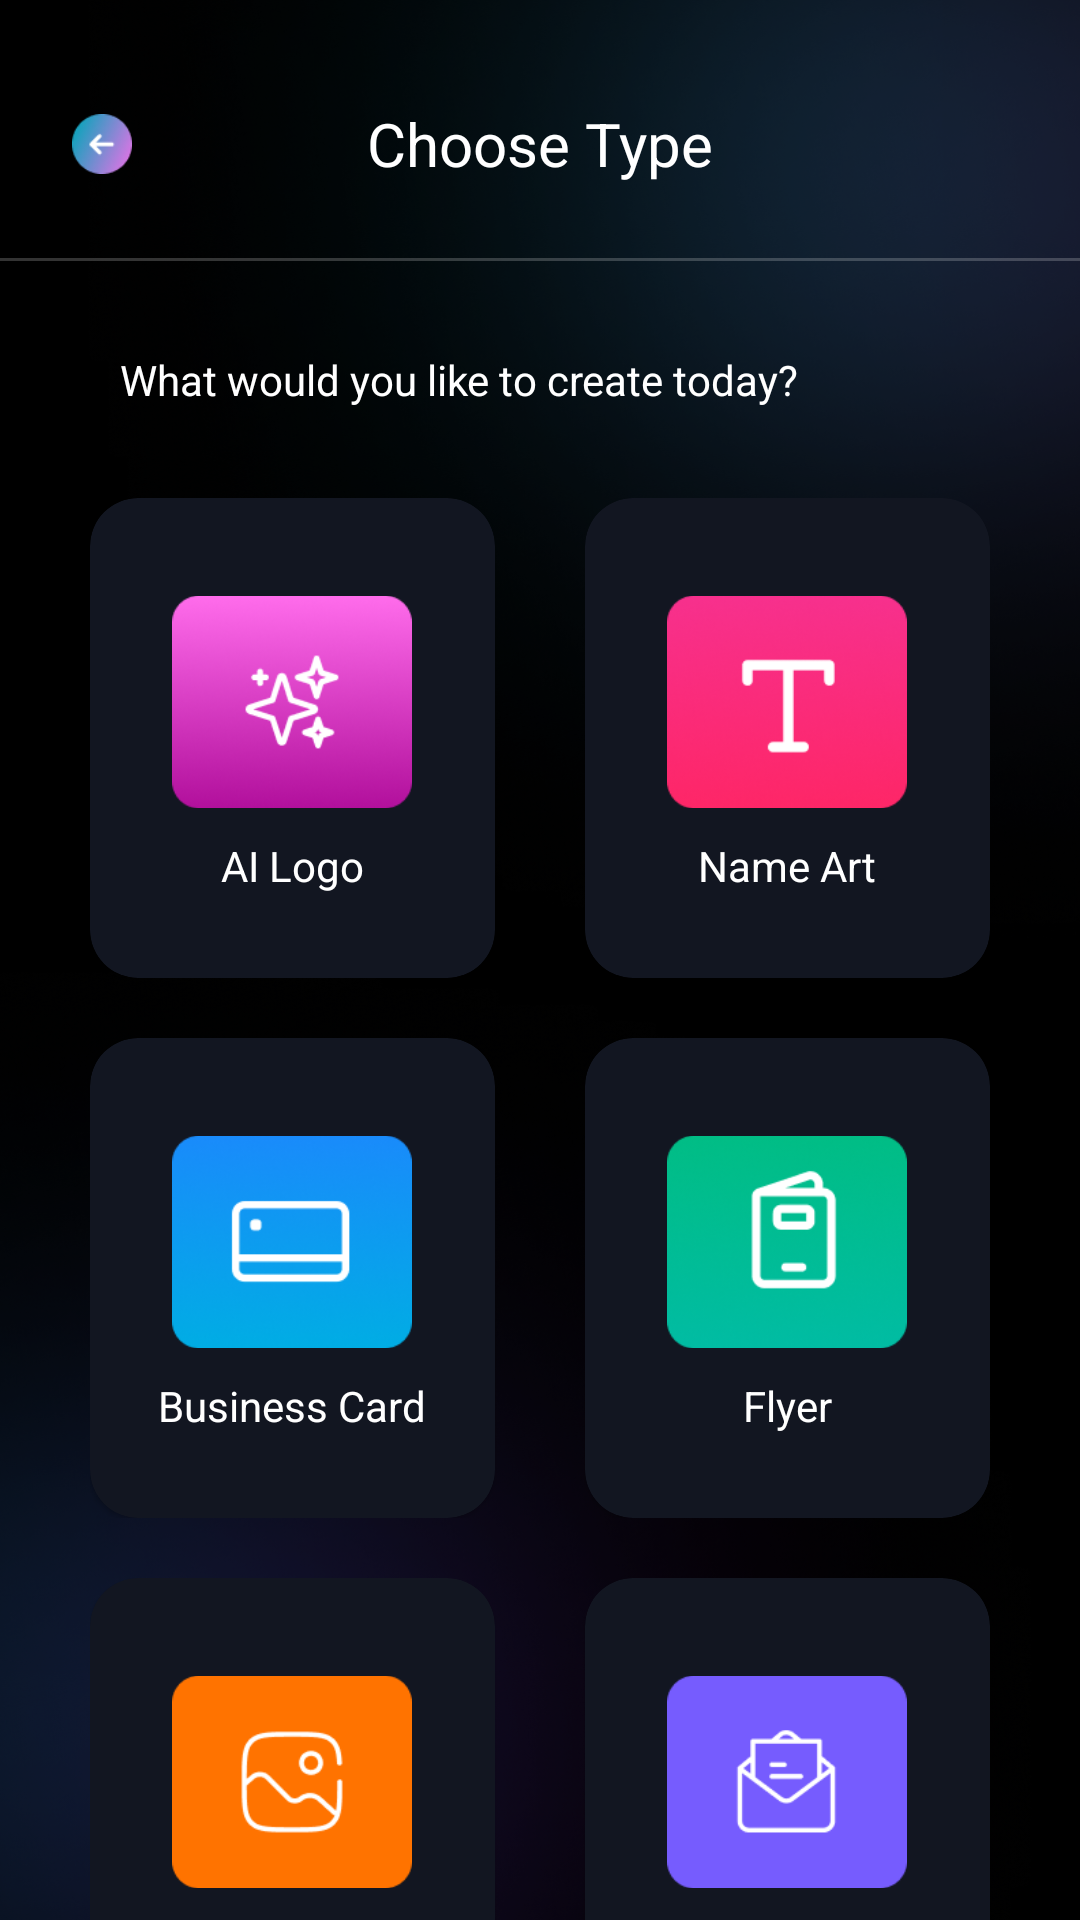

Icon click points for this 1080 × 1920 phone screenshot, format (x=x, y=y):
back arrow: (x=102, y=144)
